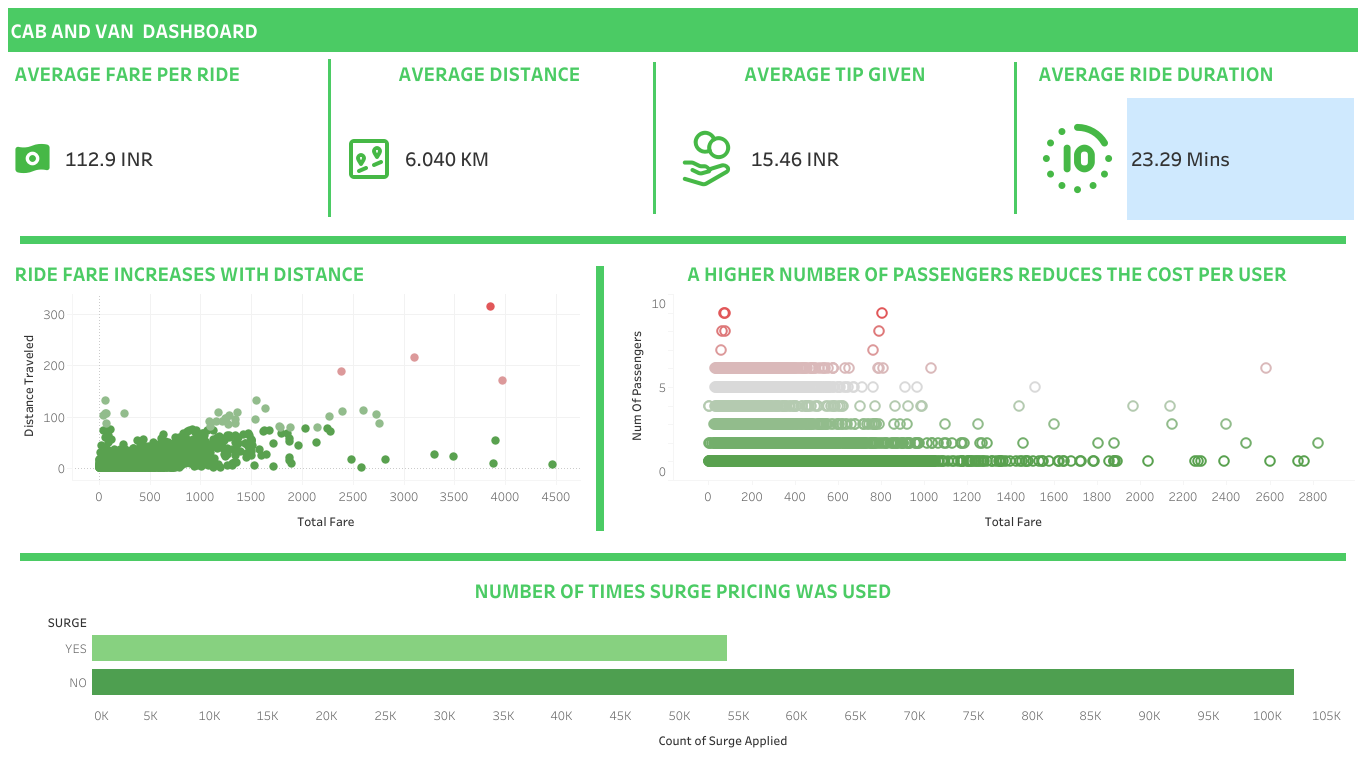

This screenshot's page, from the dashboard's own definition file:
{"tool":"tableau","page":{"name":"Dashboard 1","canvas":[1366,768],"ordinal":0},"visuals":[{"type":"text","box":[8,8,1350,44.2]},{"type":"text","box":[8,52.2,310,41.8]},{"type":"text","box":[341,52.2,297,41.8]},{"type":"text","box":[670,52.2,330,41.8]},{"type":"text","box":[1032,52.2,326,41.8]},{"type":"image","param":"C:/Users/Kamo/PROJECTS/Ride_Price_Prediction/Tableau Workbook/icons/mingcute--ca","box":[8,94,49,129.8]},{"type":"worksheet","title":"AVERAGE RIDE FARE","mark":"Automatic","box":[57,94,261,129.8]},{"type":"image","param":"C:/Users/Kamo/PROJECTS/Ride_Price_Prediction/Tableau Workbook/icons/icon-park-ou","box":[341,94,56,129.8]},{"type":"worksheet","title":"AVERAGE DISTANCE (KM)","mark":"Automatic","box":[397,94,241,129.8]},{"type":"image","param":"C:/Users/Kamo/PROJECTS/Ride_Price_Prediction/Tableau Workbook/icons/hugeicons--t","box":[670,94,73,129.8]},{"type":"worksheet","title":"AVERAGE TIP PER RIDE","mark":"Automatic","box":[743,94,257,129.8]},{"type":"image","param":"C:/Users/Kamo/PROJECTS/Ride_Price_Prediction/Tableau Workbook/icons/tabler--time","box":[1032,94,91,129.8]},{"type":"worksheet","title":"AVERAGE TRIP DURATION","mark":"Automatic","box":[1123,94,235,129.8]},{"type":"text","box":[8,256,576,34]},{"type":"blank","box":[584,256,32,285]},{"type":"text","box":[616,256,742,34]},{"type":"worksheet","title":"CORRELATION BETWEEN TOTAL FARE AND DISTANCE TRAVELLED","mark":"Circle","rows":["DISTANCE_TRAVELED"],"cols":["TOTAL_FARE"],"box":[8,290,576,251]},{"type":"worksheet","title":"CORRELATION BETWEEN NUMBER OF PASSENGERS AND FARE","mark":"Automatic","rows":["NUM_OF_PASSENGERS"],"cols":["TOTAL_FARE"],"box":[616,290,742,251]},{"type":"text","box":[8,573,1350,34]},{"type":"worksheet","title":"NUMBER OF TIMES SURGE PRICING WAS APPLIED","mark":"Bar","rows":["Calculation_124693460575907843"],"cols":["SURGE_APPLIED"],"box":[8,607,1350,153]}]}

Visuals, with their boxes in screenshot pixels (x1, y1, x2, y2), scaled from the page's 1366x768 canvas onto the 1365x767 screenshot:
text: <box>8,8,1357,52</box>
text: <box>8,52,318,94</box>
text: <box>341,52,638,94</box>
text: <box>670,52,999,94</box>
text: <box>1031,52,1357,94</box>
image: <box>8,94,57,224</box>
"AVERAGE RIDE FARE" worksheet: <box>57,94,318,224</box>
image: <box>341,94,397,224</box>
"AVERAGE DISTANCE (KM)" worksheet: <box>397,94,638,224</box>
image: <box>670,94,742,224</box>
"AVERAGE TIP PER RIDE" worksheet: <box>742,94,999,224</box>
image: <box>1031,94,1122,224</box>
"AVERAGE TRIP DURATION" worksheet: <box>1122,94,1357,224</box>
text: <box>8,256,584,290</box>
blank: <box>584,256,616,540</box>
text: <box>616,256,1357,290</box>
"CORRELATION BETWEEN TOTAL FARE AND DISTANCE TRAVELLED" worksheet (Circle marks): <box>8,290,584,540</box>
"CORRELATION BETWEEN NUMBER OF PASSENGERS AND FARE" worksheet: <box>616,290,1357,540</box>
text: <box>8,572,1357,606</box>
"NUMBER OF TIMES SURGE PRICING WAS APPLIED" worksheet (Bar marks): <box>8,606,1357,759</box>
